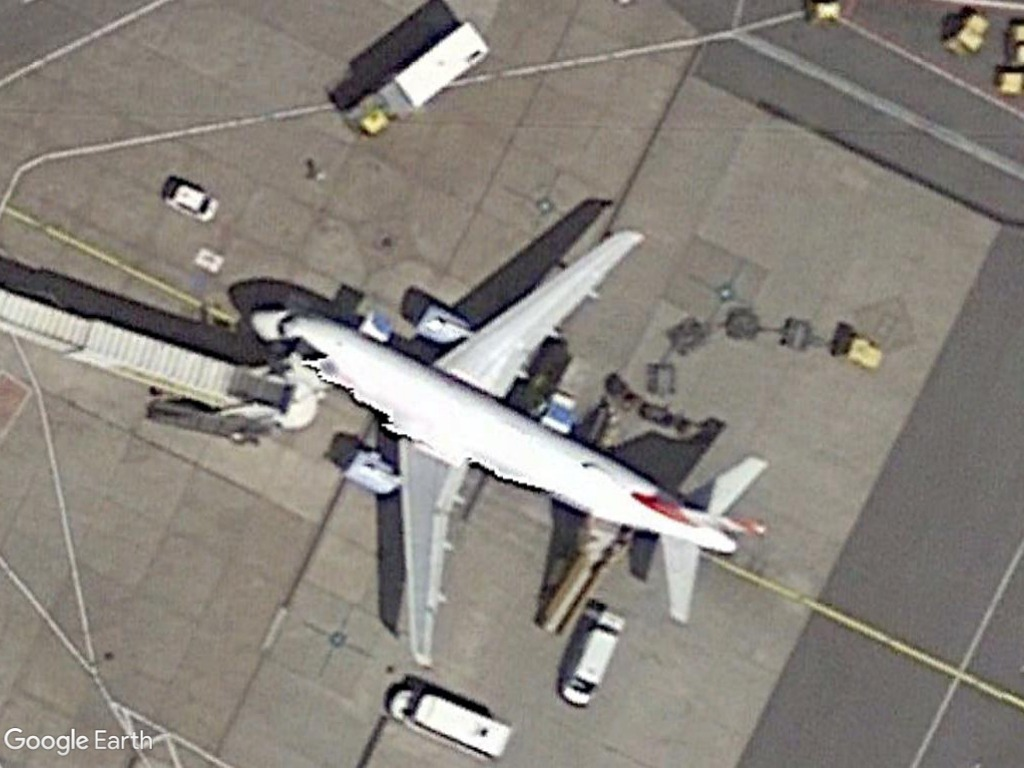airliner: (245, 225, 773, 672)
car: (162, 176, 222, 225)
stairtruck: (529, 516, 639, 637)
truck: (346, 16, 498, 139)
van: (385, 685, 515, 766), (558, 625, 623, 711)
